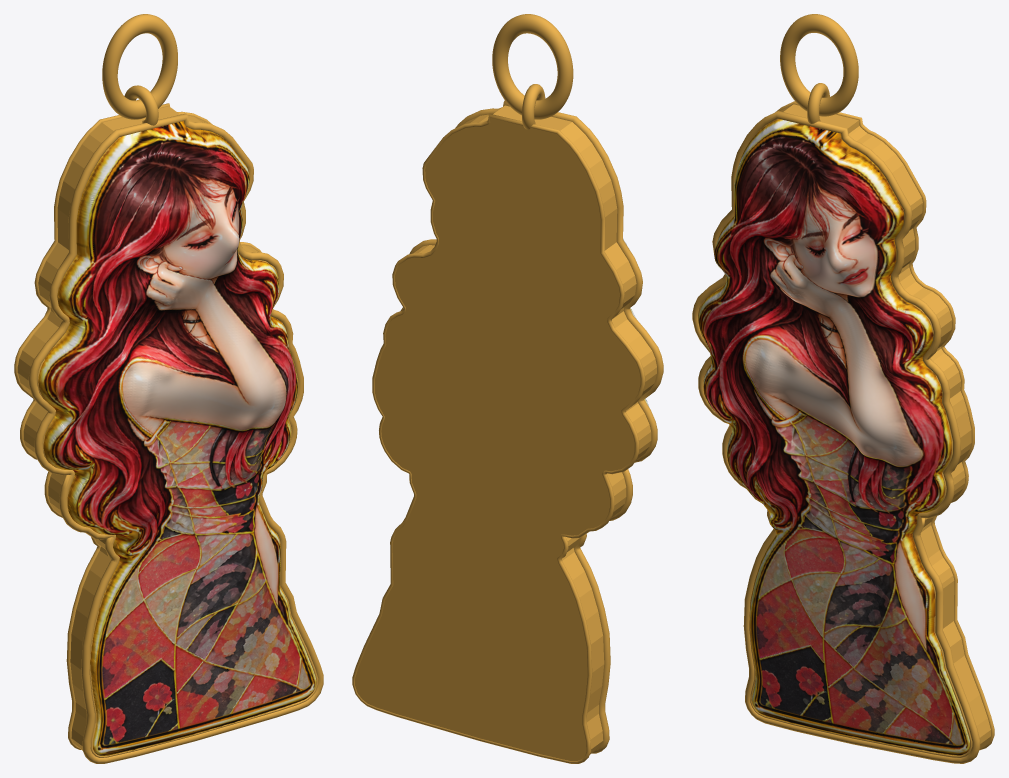
The model's file is 08_muse.glb.
3 views of the same model, side by side, from view 1: azimuth 30°, elevation 25°; view 2: azimuth 150°, elevation 25°; view 3: azimuth 330°, elevation 25° (orthographic). The views are drawn at different scales.
Parts seen in each view (by area): view 1: 08_muse | sculpted enamel on solid metal, 08_muse | rounded cast gold outer rim, 08_muse | oval gold jump ring, 08_muse | rounded gold rear edge, 08_muse | fine inner gold bezel, 08_muse | soldered bail; view 2: 08_muse | sculpted enamel on solid metal, 08_muse | rounded gold rear edge, 08_muse | rounded cast gold outer rim, 08_muse | oval gold jump ring, 08_muse | soldered bail; view 3: 08_muse | sculpted enamel on solid metal, 08_muse | rounded cast gold outer rim, 08_muse | oval gold jump ring, 08_muse | rounded gold rear edge, 08_muse | fine inner gold bezel, 08_muse | soldered bail.
Boxes of the visible parts, x1,y1,x2,y2 form: 08_muse | sculpted enamel on solid metal: (17, 106, 316, 755); 08_muse | rounded cast gold outer rim: (28, 113, 323, 763); 08_muse | oval gold jump ring: (102, 14, 177, 119); 08_muse | rounded gold rear edge: (14, 103, 261, 749); 08_muse | fine inner gold bezel: (37, 260, 318, 757); 08_muse | soldered bail: (124, 85, 158, 125); 08_muse | sculpted enamel on solid metal: (355, 105, 656, 760); 08_muse | rounded gold rear edge: (352, 114, 645, 763); 08_muse | rounded cast gold outer rim: (400, 100, 663, 753); 08_muse | oval gold jump ring: (492, 14, 573, 119); 08_muse | soldered bail: (522, 84, 545, 129); 08_muse | sculpted enamel on solid metal: (698, 104, 990, 755); 08_muse | rounded cast gold outer rim: (692, 111, 980, 763); 08_muse | oval gold jump ring: (780, 14, 858, 116); 08_muse | rounded gold rear edge: (776, 101, 994, 750); 08_muse | fine inner gold bezel: (698, 300, 972, 757); 08_muse | soldered bail: (807, 83, 829, 123).
Bounding box in the file's own units: 0.0252 × 0.06 × 0.00763.
Materials: 2 (1 with a texture image).
